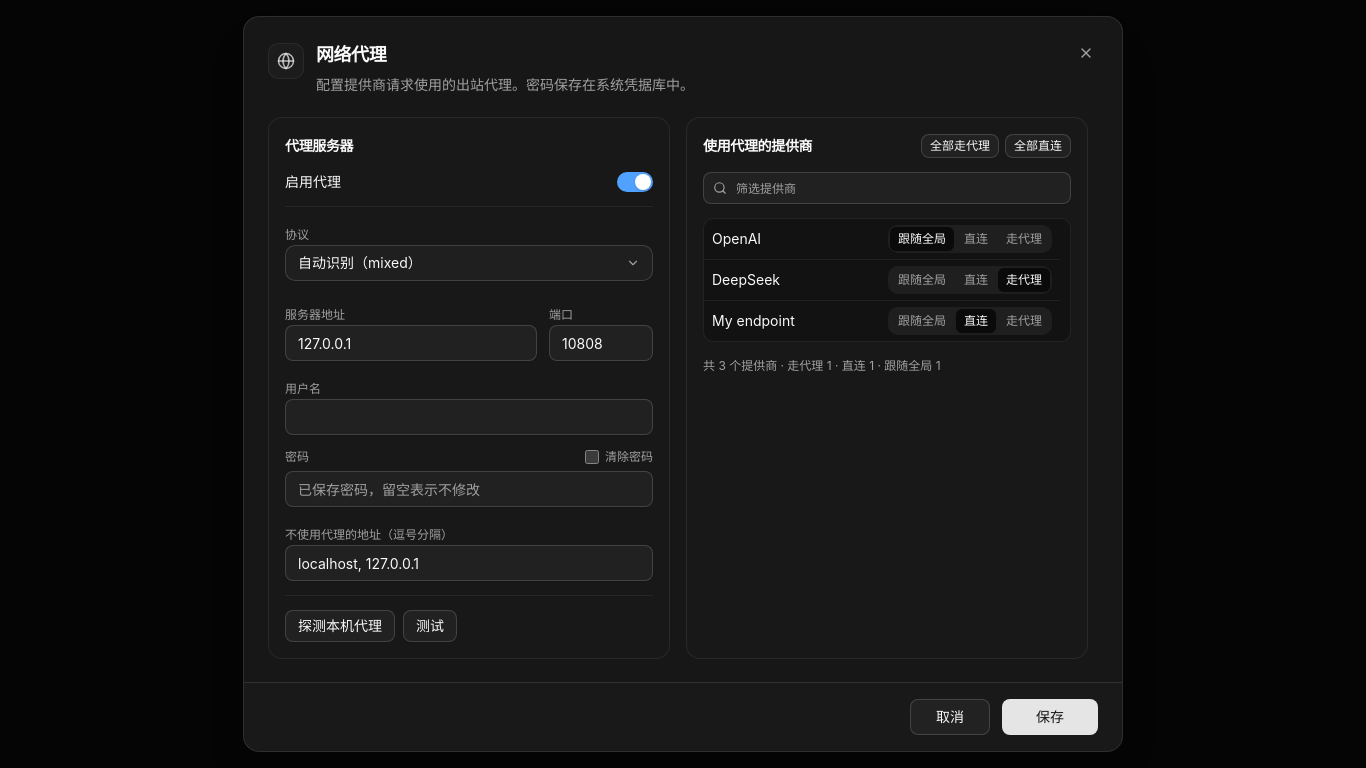
Test: ProxySettingsDialog › explains a protocol mismatch and reports a reachable proxy
Expected: the field labelled "服务器地址" is shown, [285,325,537,361]
Click the button "测试": {"x": 430, "y": 626} [403,610,457,642]
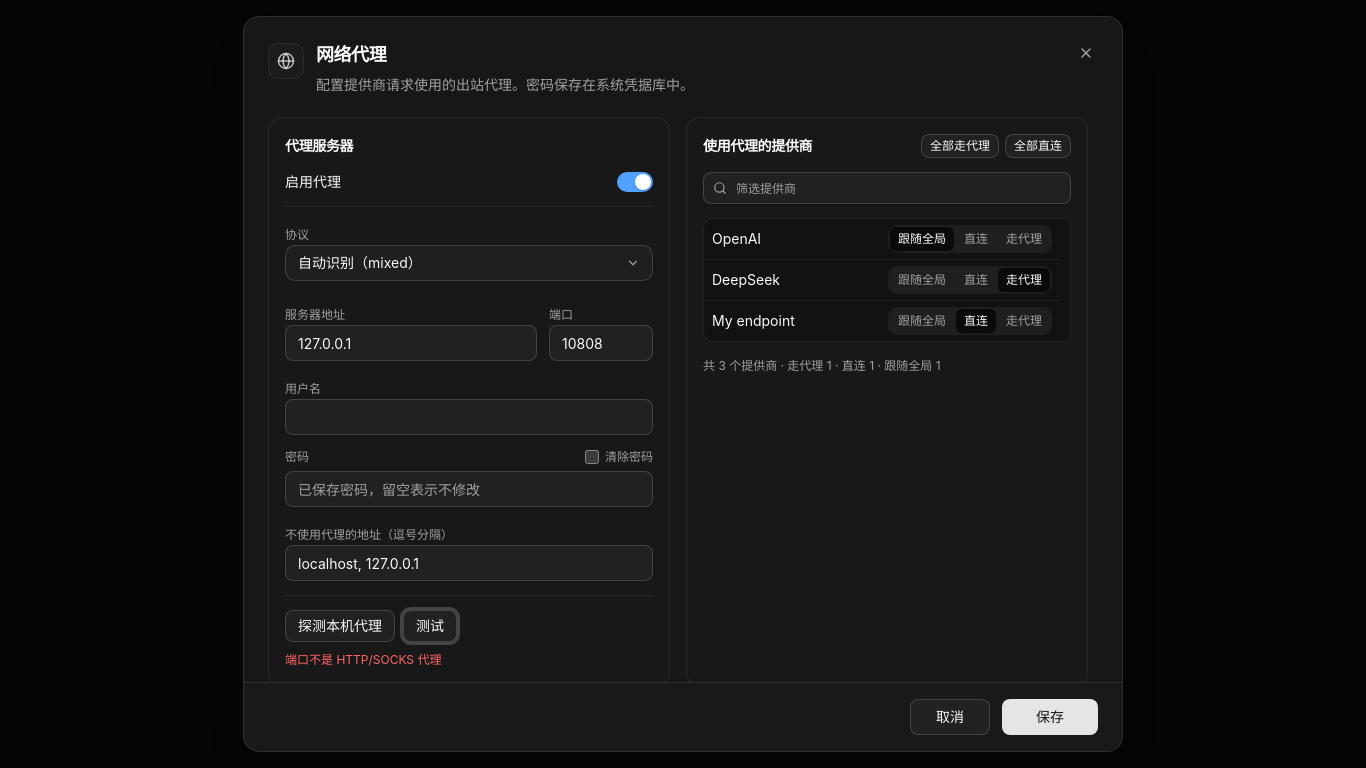
Expected: the message reads "端口不是 HTTP/SOCKS 代理", [285,652,441,667]
Click the button "测试": {"x": 430, "y": 626} [403,610,457,642]
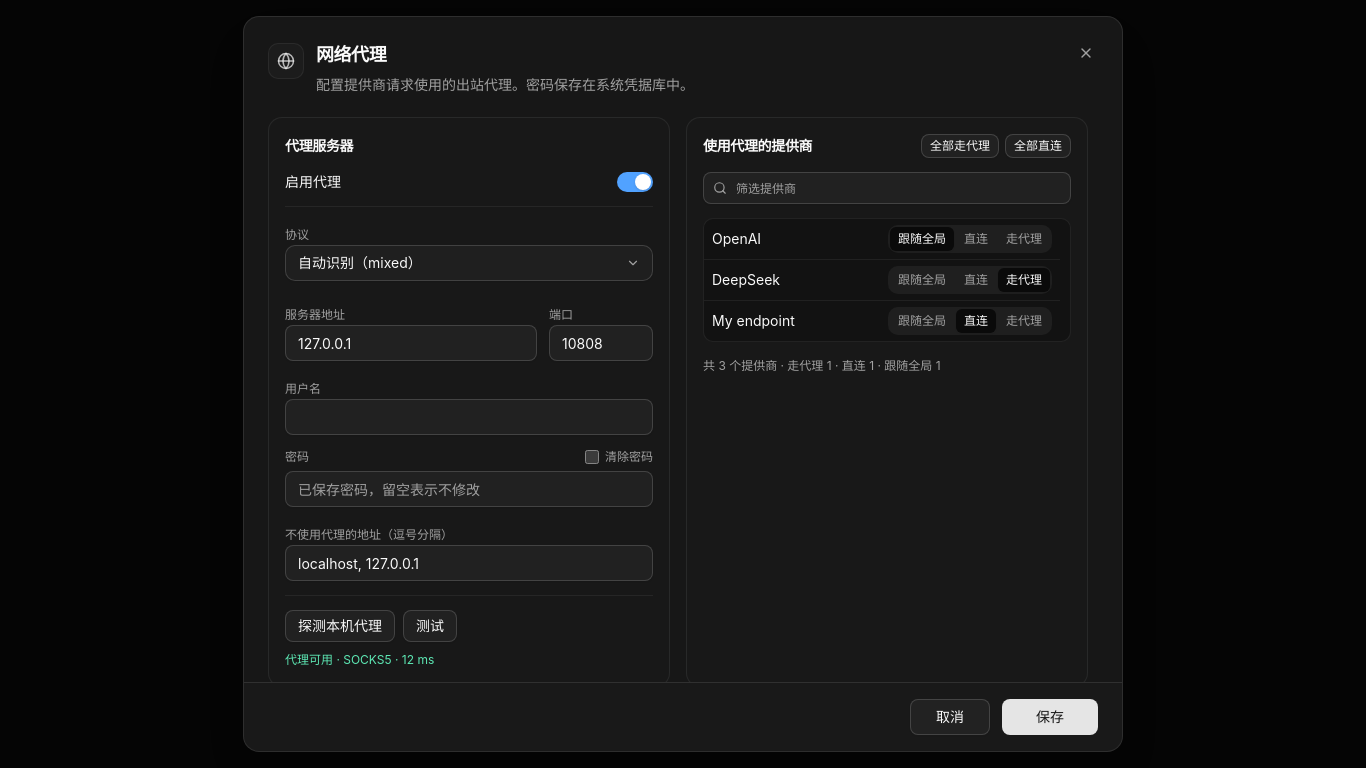
Expected: the message reads "代理可用 · SOCKS5 · 12 ms", [285,652,434,667]
